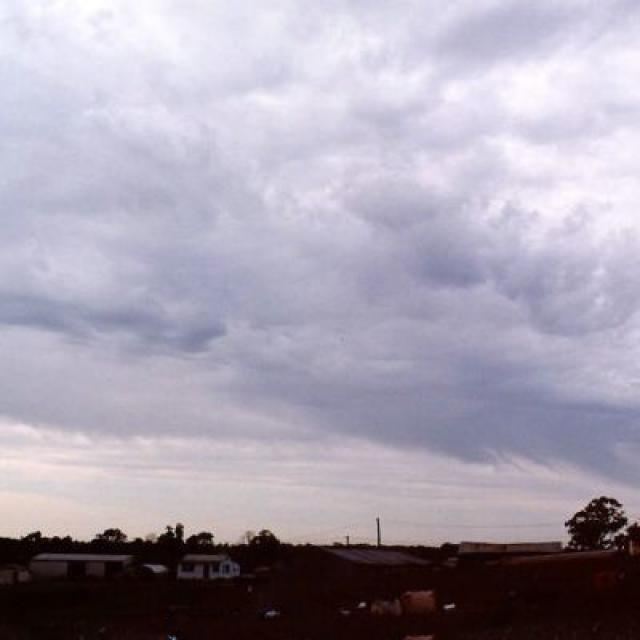Cs: (1, 4, 639, 477)
